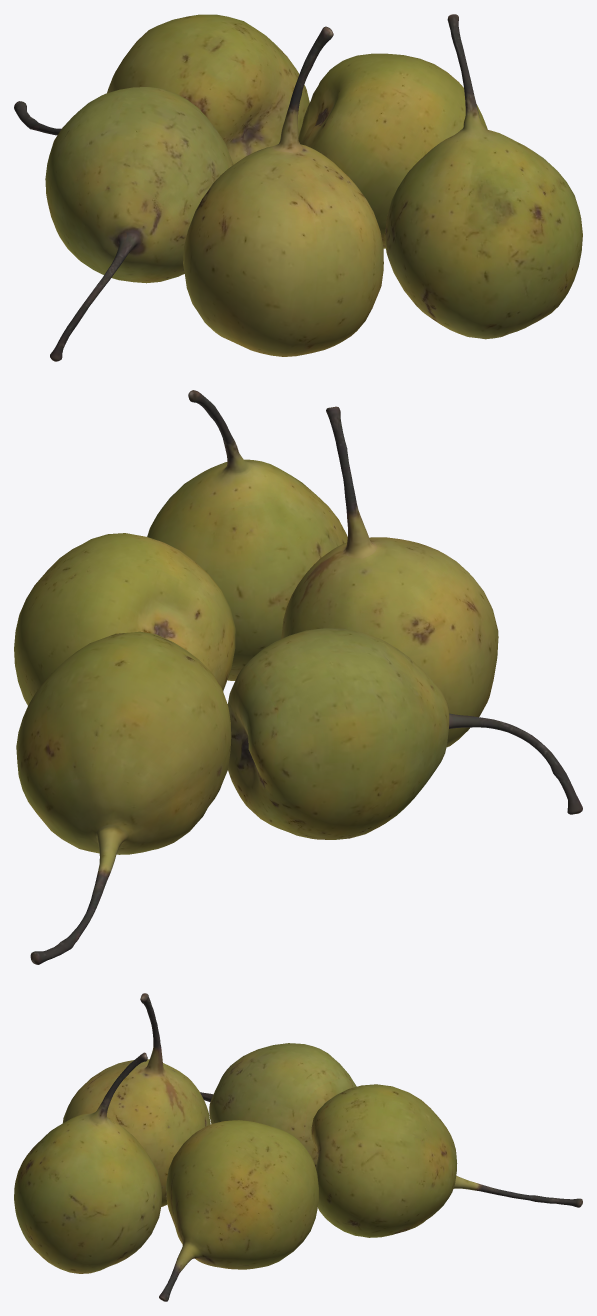
File: food_pears_asian_01.glb
3 views of the same model, one above another, from view 1: azimuth 30°, elevation 25°; view 2: azimuth 150°, elevation 25°; view 3: azimuth 270°, elevation 25° (orthographic). The views are drawn at different scales.
Visible parts, largest first — view 1: food_pears_asian_01_b; view 2: food_pears_asian_01_b; view 3: food_pears_asian_01_b.
Part boxes in pixels (bbox=[...]): food_pears_asian_01_b: bbox=[14, 14, 582, 361]; food_pears_asian_01_b: bbox=[14, 390, 582, 964]; food_pears_asian_01_b: bbox=[14, 993, 582, 1301].
Size of the model in its own units: 0.1262 by 0.0712 by 0.1669.
1 material, 1 textured.
